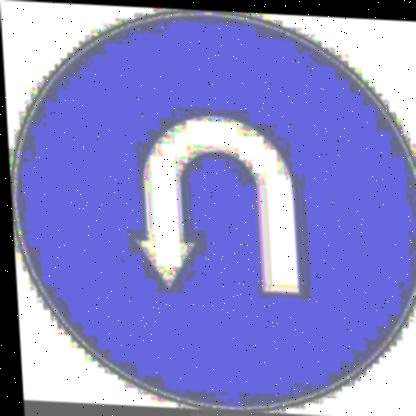U-turn: (7, 2, 416, 416)
